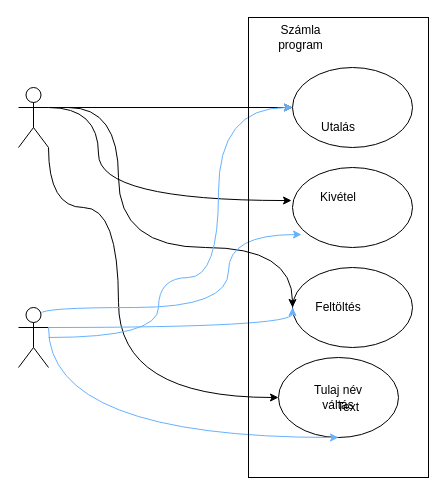
Some shapes in this 446 by 495 pixel diagram are drawn without their labels. Each missing label, with the centre of its shape:
Tulaj1: the point at 33,117
Tulaj2: the point at 33,337
